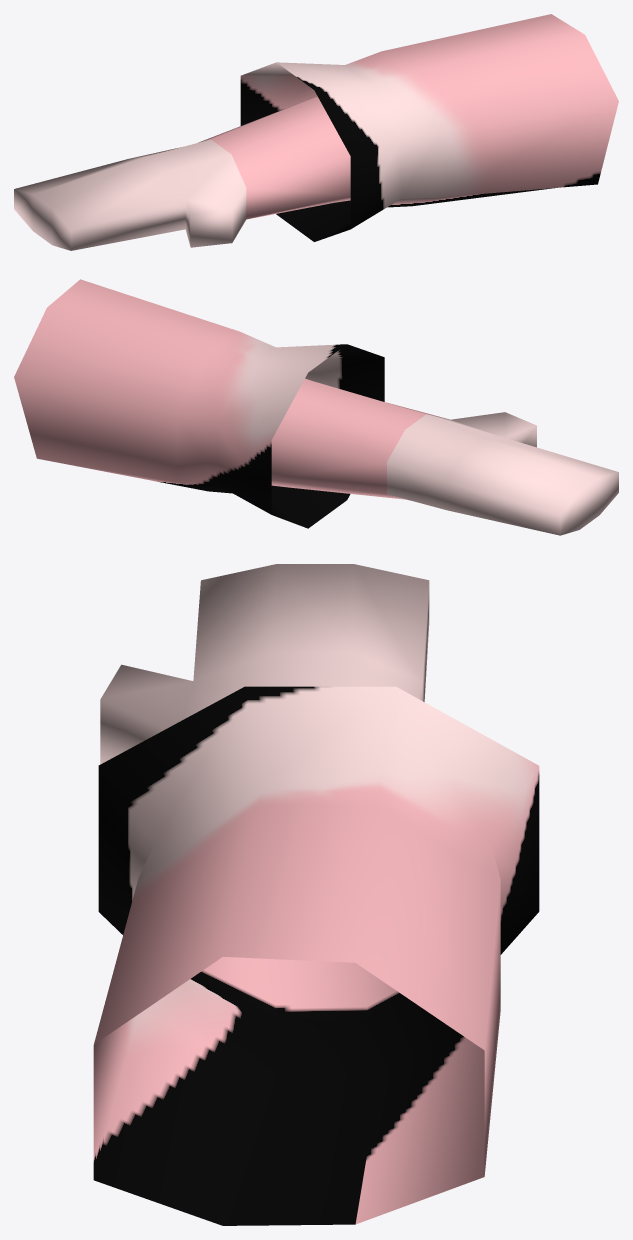
The model's file is arm_R.obj.
The picture shows the model from 3 angles, top to bottom: view 1: azimuth 30°, elevation 25°; view 2: azimuth 150°, elevation 25°; view 3: azimuth 270°, elevation 25°; orthographic projection. The views are drawn at different scales.
Visible parts, largest first — view 1: arm_R; view 2: arm_R; view 3: arm_R.
Part boxes in pixels (x1,y1,x2,y2): arm_R: (14, 14, 618, 250); arm_R: (14, 279, 618, 535); arm_R: (93, 564, 539, 1225).
Bounding box in the file's own units: 0.6182 × 0.1724 × 0.2289.
1 material, 1 textured.
